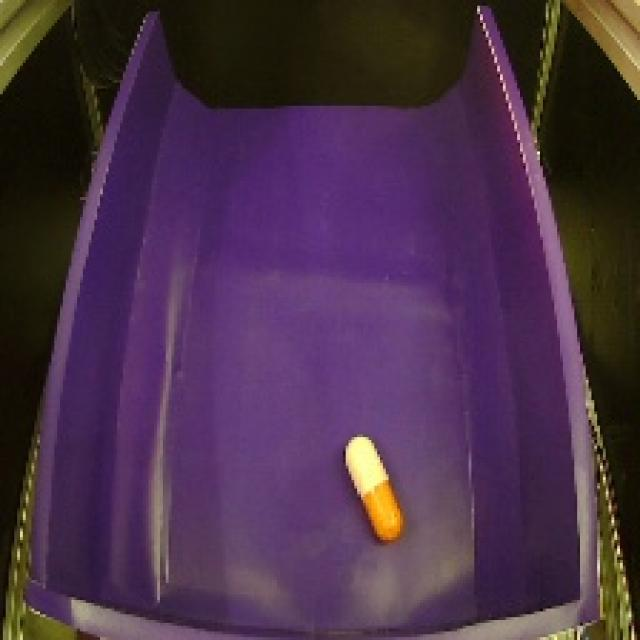small: (334, 430, 412, 550)
